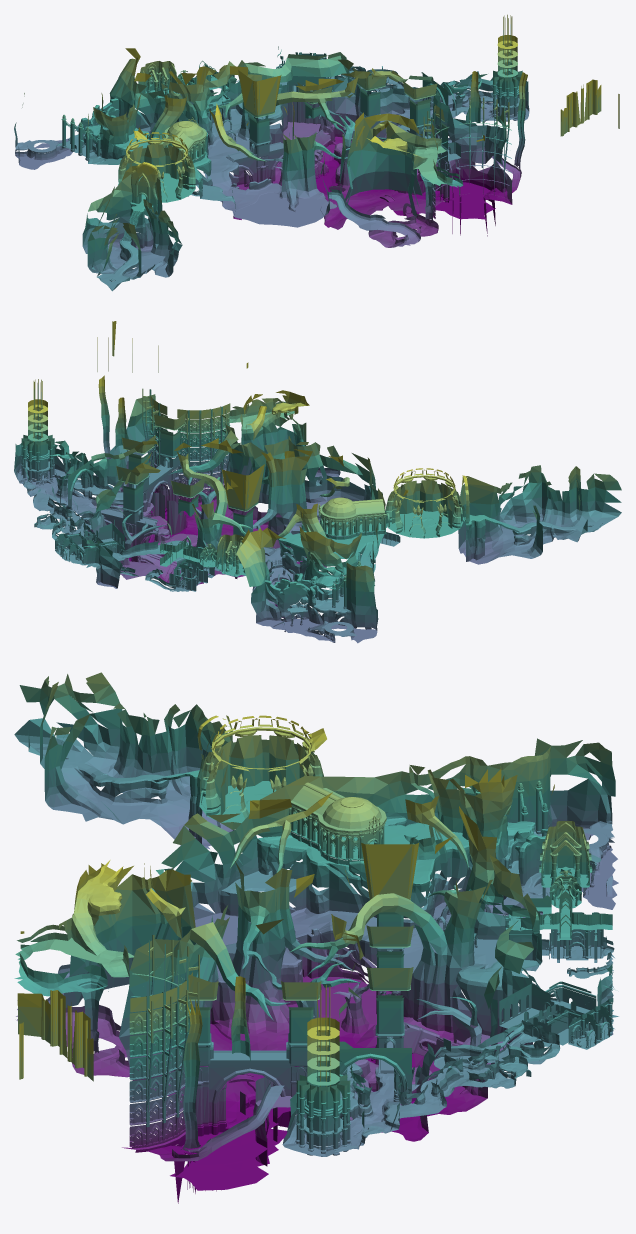
Rendered from 780_SZ_Depths.glb.
3 renders of one model, top to bottom at view 1: azimuth 30°, elevation 25°; view 2: azimuth 150°, elevation 25°; view 3: azimuth 270°, elevation 25°, orthographic. The views are drawn at different scales.
Visible parts, largest first — view 1: walls, floors; view 2: walls, floors; view 3: walls, floors.
Part boxes in pixels (x1,y1,x2,y2): walls: (14, 14, 619, 281); floors: (15, 40, 529, 291); walls: (14, 321, 621, 642); floors: (16, 396, 621, 643); walls: (14, 672, 615, 1203); floors: (14, 704, 618, 1190).
Size of the model in its own units: 588 by 187 by 374.
